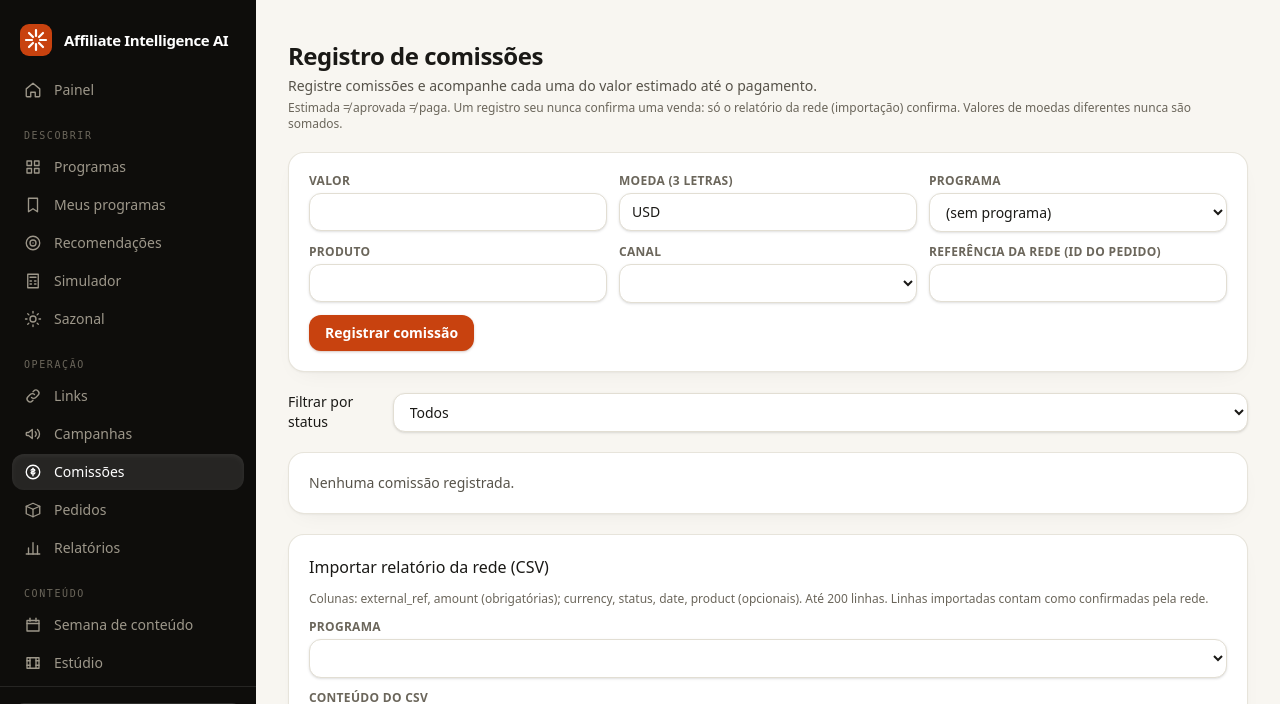
it: comissões e painel › importação: simula, mostra o relatório e os erros por linha
The image size is (1280, 704).
Select "Prog Um" in the dropdown labelled "Programa" below "Importar relatório da rede (CSV)" at (768, 658), box top-left (309, 639), bottom-right (1227, 678)
(page scrolled)
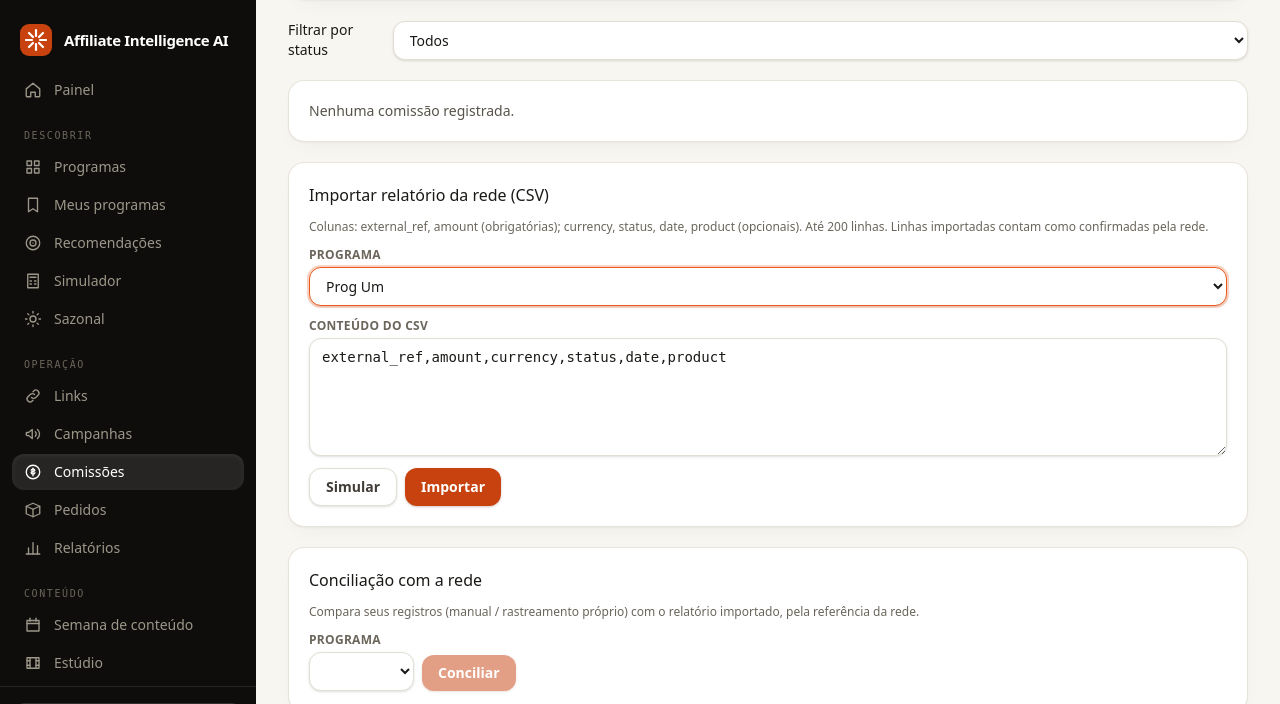
Click the button "Simular" at (353, 487), box top-left (309, 468), bottom-right (397, 506)
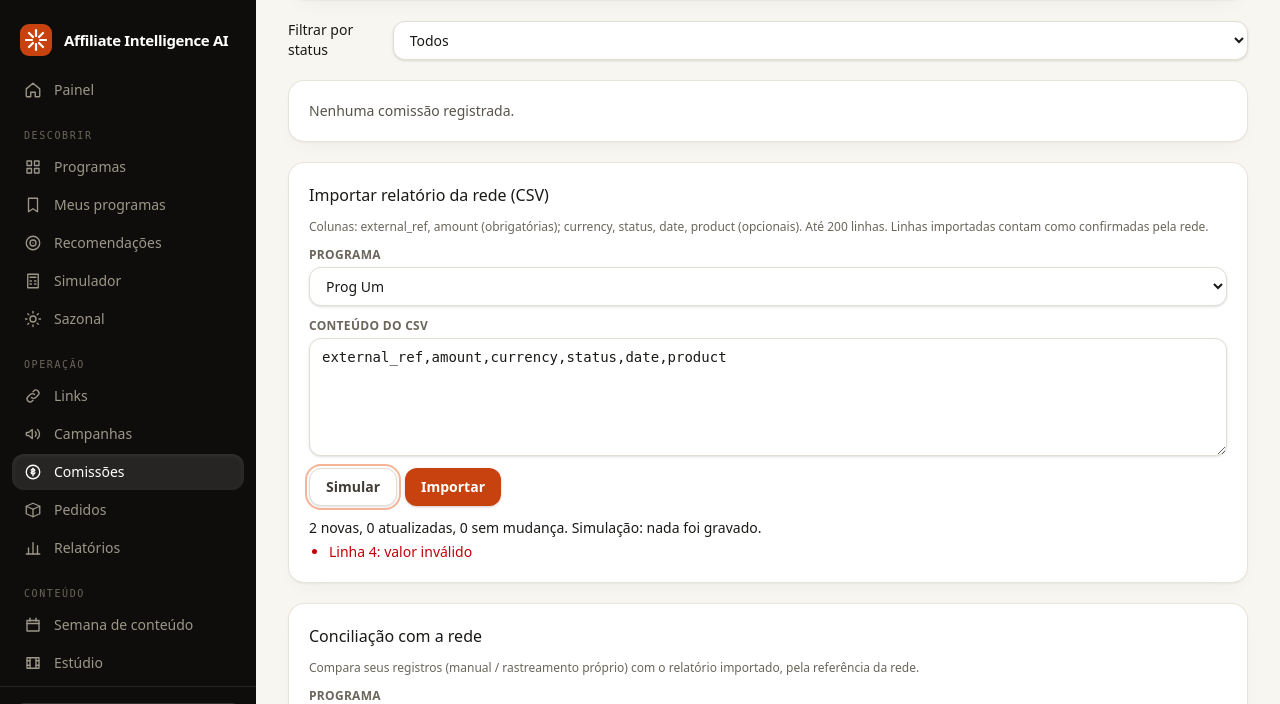
Expected: the text "2 novas, 0 atualizadas, 0 sem mudança" is shown, top-left (309, 518), bottom-right (568, 537)
Expected: the text "Simulação: nada foi gravado" is shown, top-left (572, 518), bottom-right (762, 537)
Expected: the list item "Linha 4: valor inválido" is shown, top-left (329, 542), bottom-right (472, 561)
